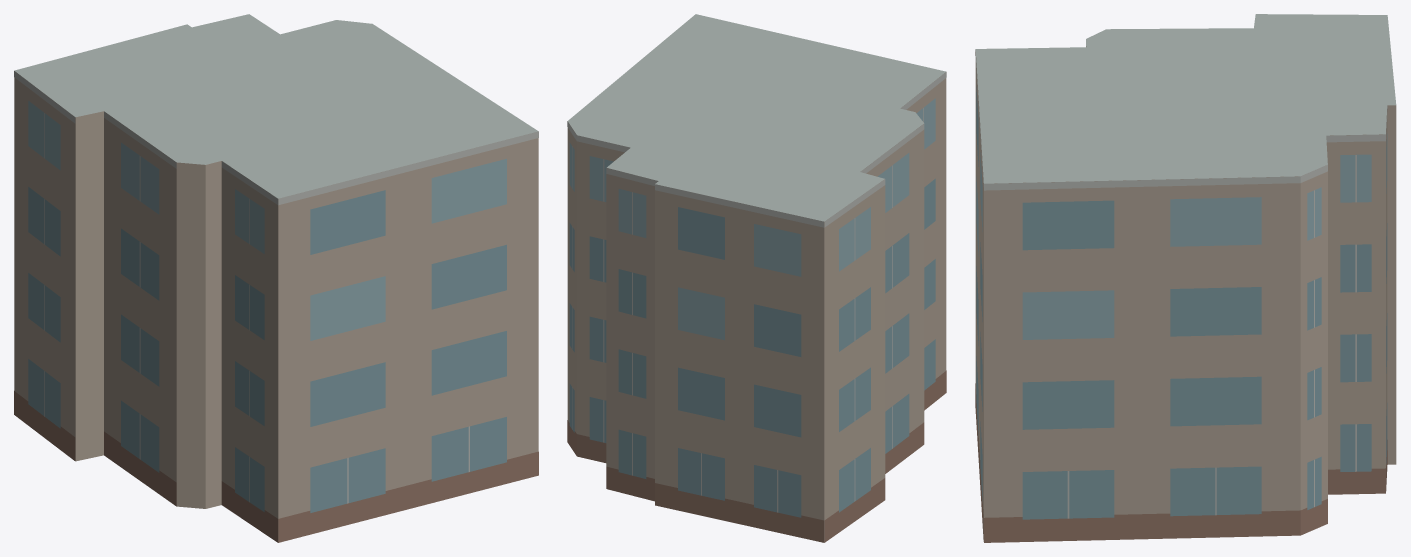
File: survey-upis-32703315.glb
3 views of the same model, side by side, from view 1: azimuth 30°, elevation 25°; view 2: azimuth 150°, elevation 25°; view 3: azimuth 270°, elevation 25° (orthographic). The views are drawn at different scales.
Visible parts, largest first — view 1: survey-upis-32703315.tmp; view 2: survey-upis-32703315.tmp; view 3: survey-upis-32703315.tmp.
Boxes of the visible parts, x1,y1,x2,y2 form: survey-upis-32703315.tmp: (14, 14, 538, 542); survey-upis-32703315.tmp: (567, 14, 946, 542); survey-upis-32703315.tmp: (975, 14, 1396, 542).
Size of the model in its own units: 12.98 by 12.8 by 13.6.
